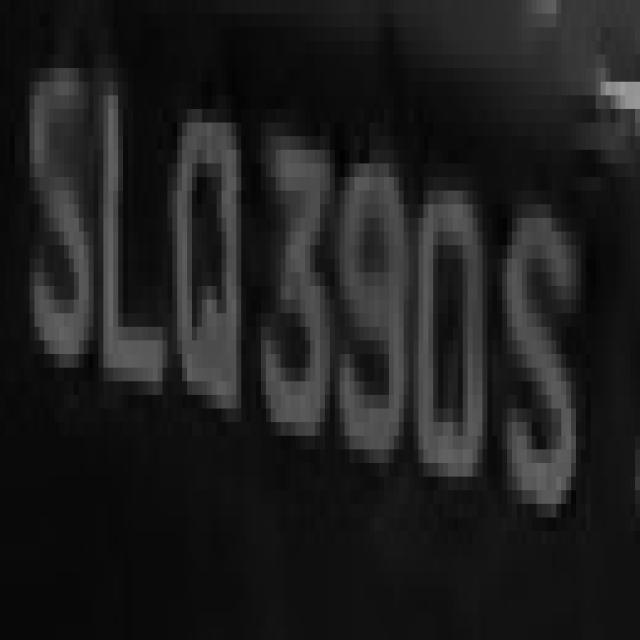0: (409, 150, 492, 517)
3: (251, 81, 330, 476)
9: (320, 122, 418, 504)
L: (89, 54, 172, 436)
Q: (167, 54, 261, 477)
S: (497, 177, 581, 558), (20, 54, 94, 408)
